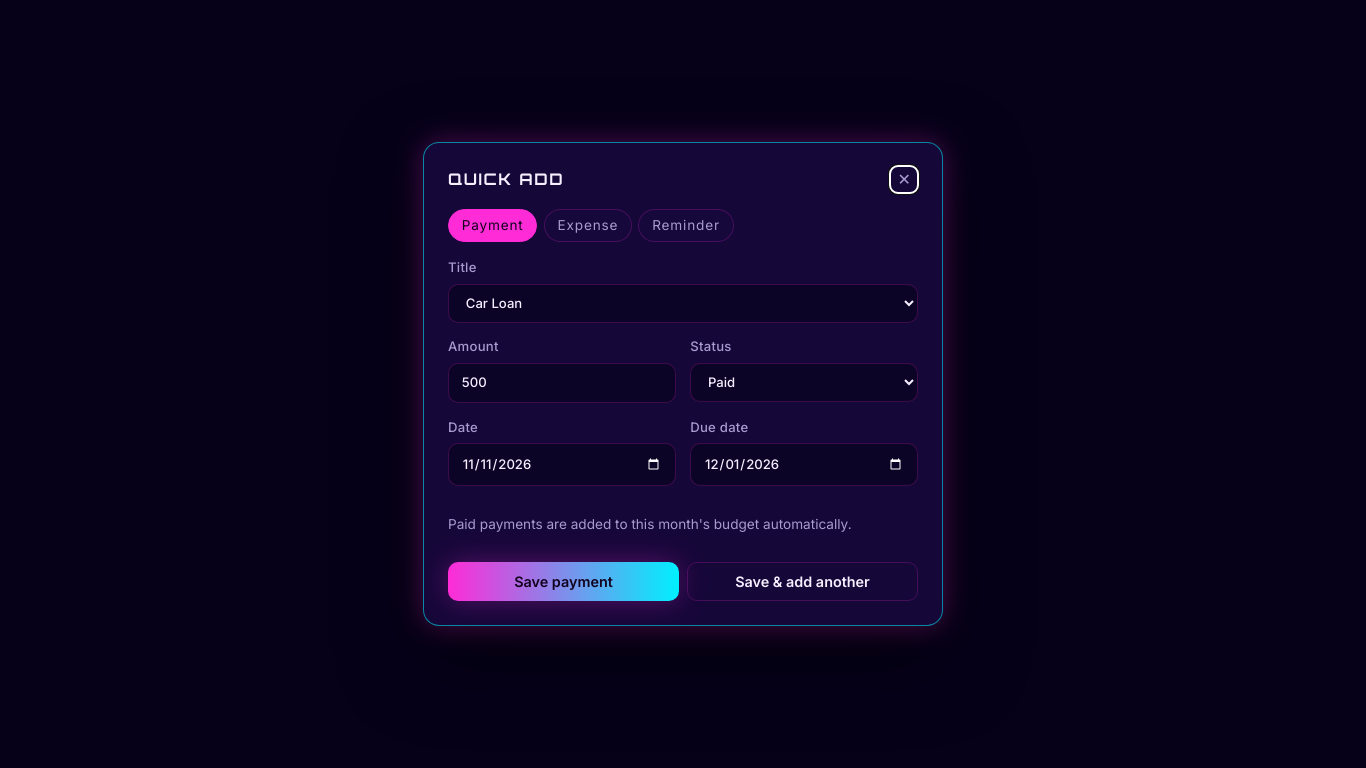
Test: QuickAddDialog › "Save & add another" keeps the dialog open with the plan filled in again
Replace the text in the number field labelled "Amount" with "650" at (562, 383), box [448,363,676,403]
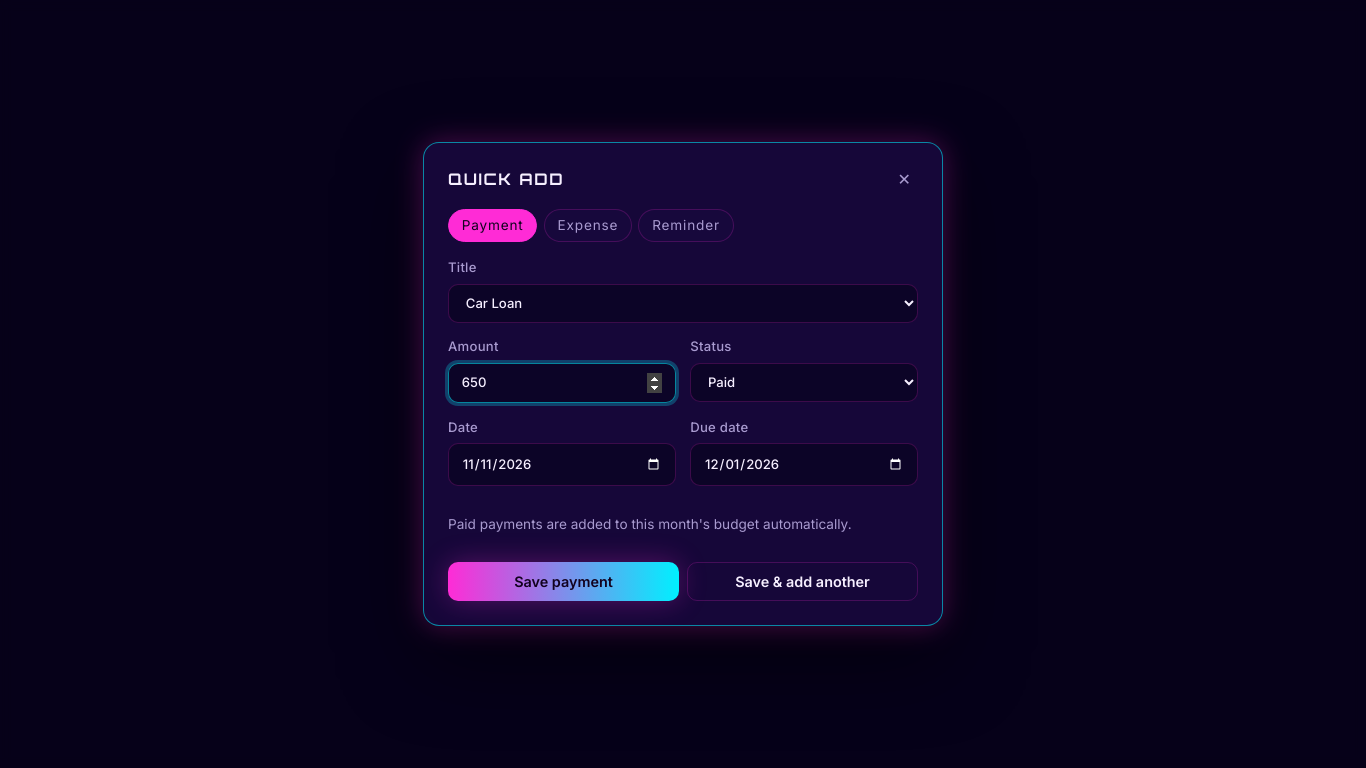
Click the button "Save & add another" at (802, 581), box [687,562,918,600]
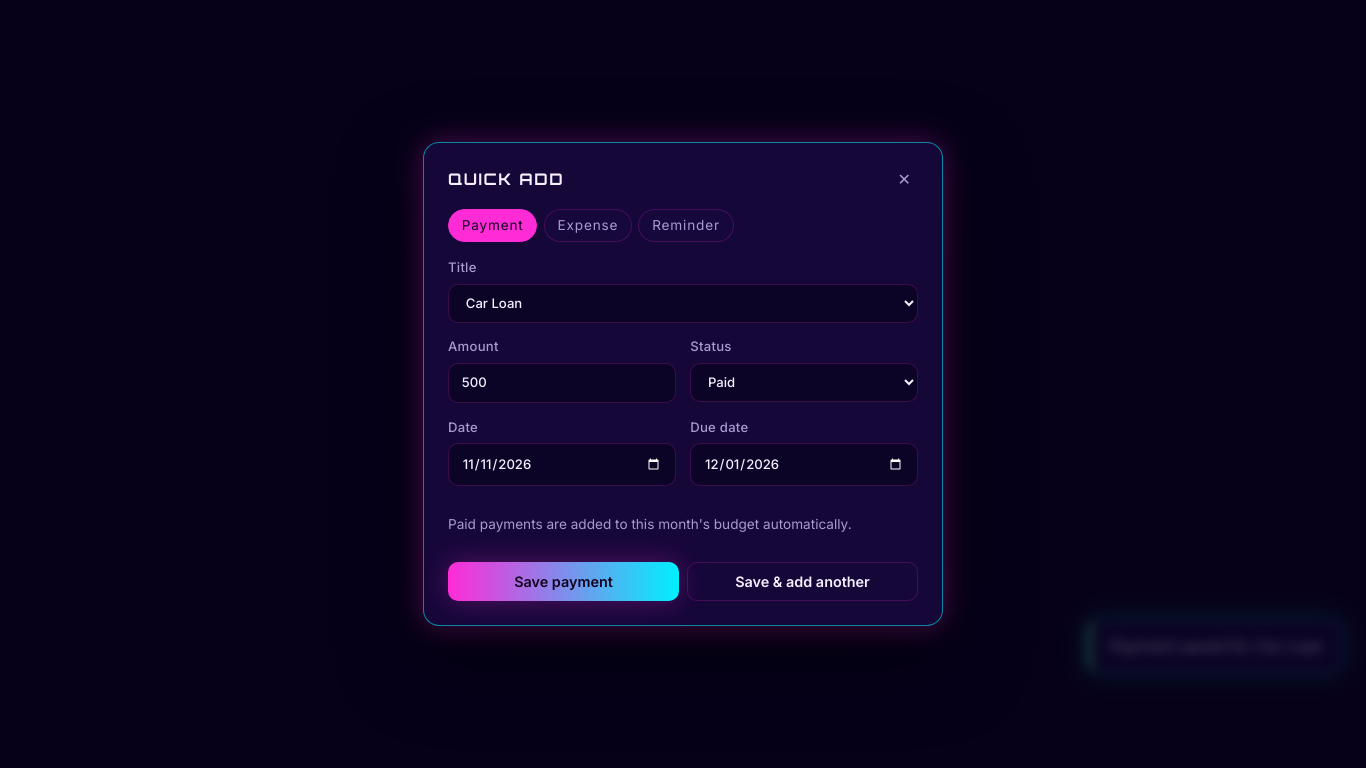
Result: the number field labelled "Amount" holds "500" at [448,363,676,403]
